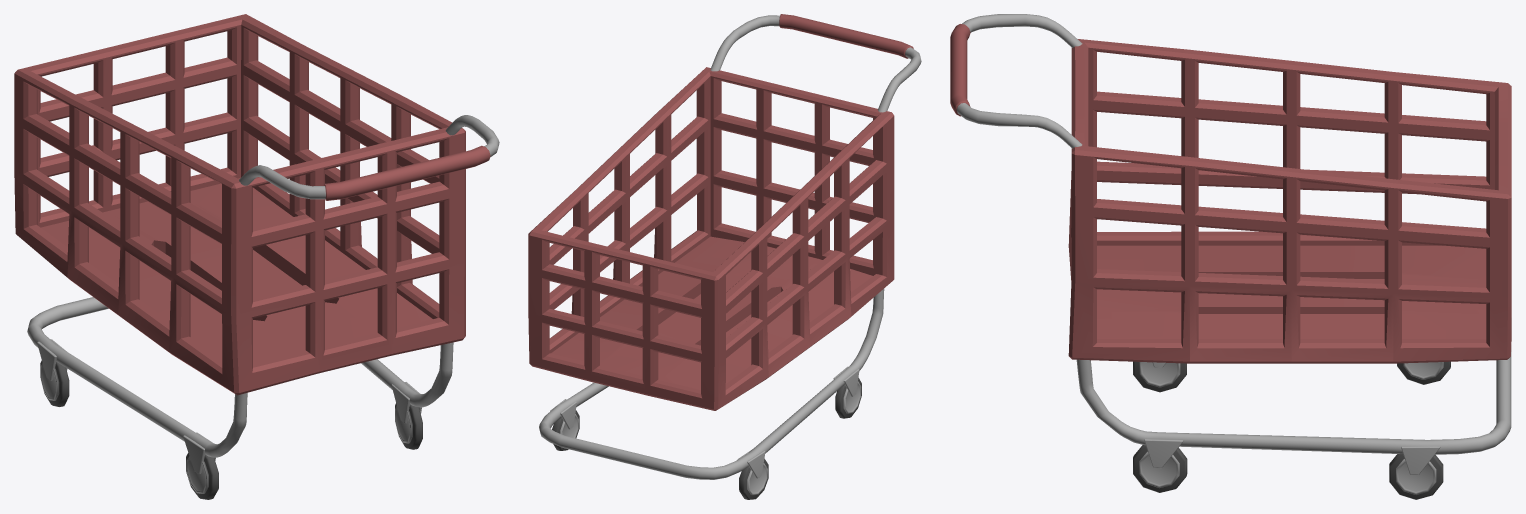
File: ShoppingCart.fbx
The picture shows the model from 3 angles, left to right: view 1: azimuth 30°, elevation 25°; view 2: azimuth 150°, elevation 25°; view 3: azimuth 270°, elevation 25°; orthographic projection. The views are drawn at different scales.
Visible parts, largest first — view 1: Cart; view 2: Cart; view 3: Cart.
Part boxes in pixels (<box>): Cart: <box>14,14,499,499</box>; Cart: <box>528,14,921,499</box>; Cart: <box>950,14,1511,499</box>.
Size of the model in its own units: 90.35 by 130 by 174.
